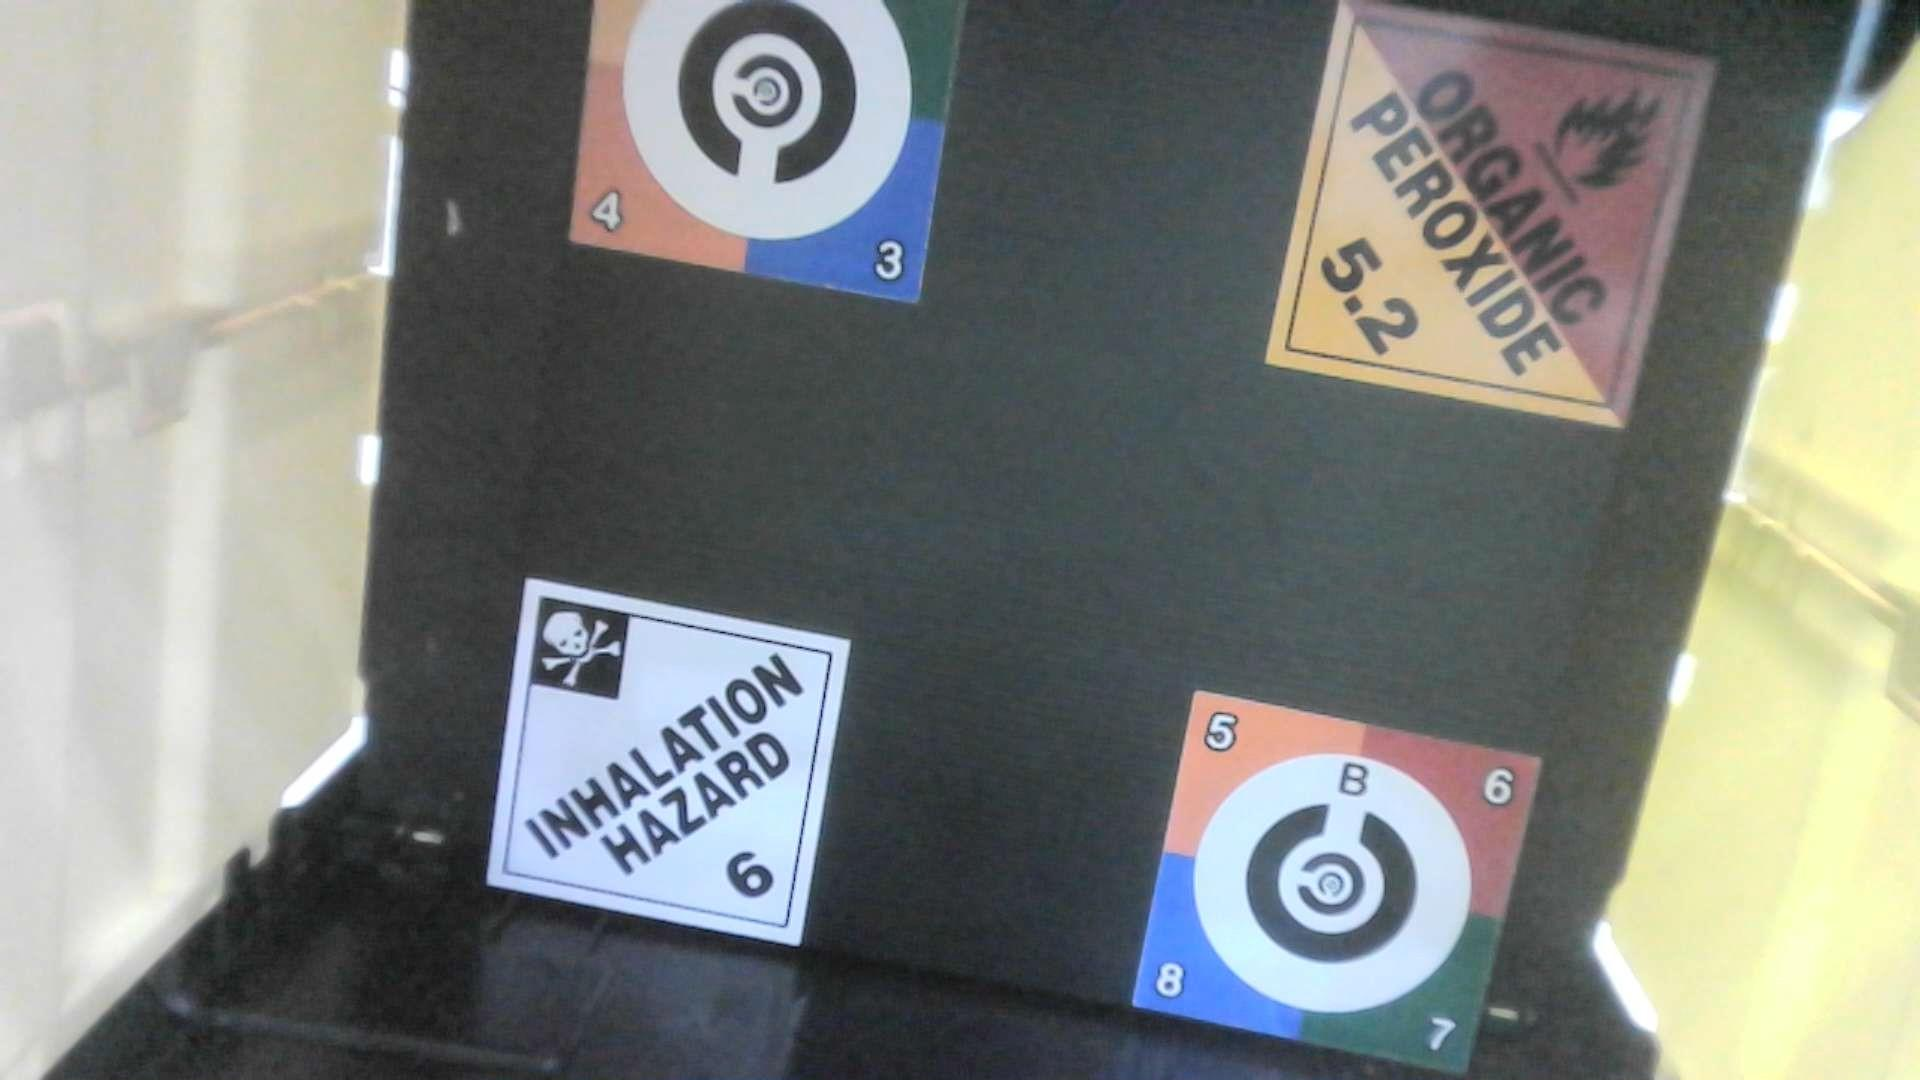organic-peroxide: (1262, 1, 1722, 431)
poison: (479, 574, 852, 945)
